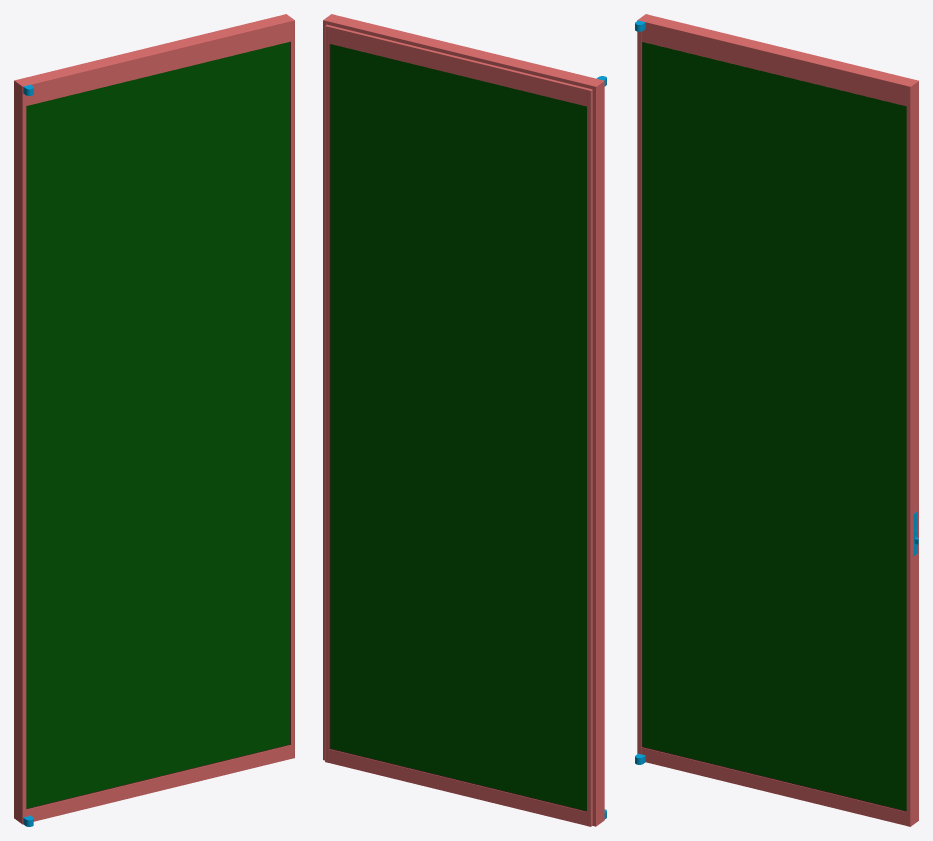
File: Door_02.fbx
3 renders of one model, left to right at view 1: azimuth 30°, elevation 25°; view 2: azimuth 150°, elevation 25°; view 3: azimuth 330°, elevation 25°, orthographic.
Visible parts, largest first — view 1: Door_02; view 2: Door_02; view 3: Door_02.
Part boxes in pixels (x1,y1,x2,y2): Door_02: (14, 14, 294, 826); Door_02: (323, 14, 606, 826); Door_02: (635, 14, 918, 826).
Size of what is drawn, in the model's own units: 103 by 262 by 9.43.
